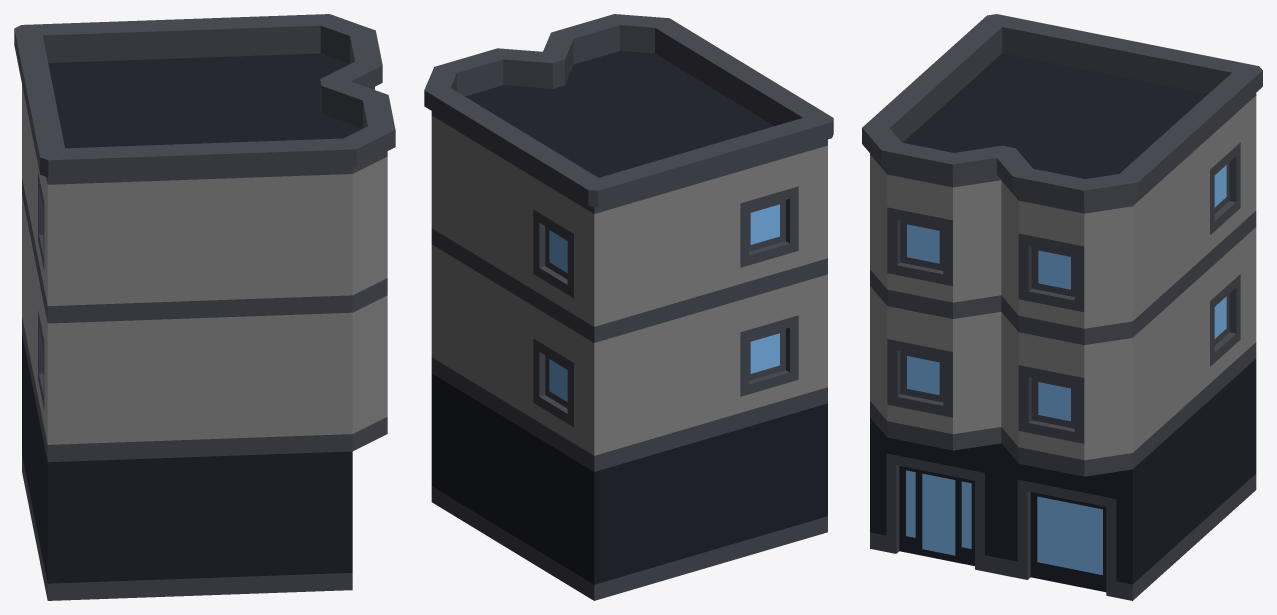
File: variant_34.obj
The picture shows the model from 3 angles, left to right: view 1: azimuth 30°, elevation 25°; view 2: azimuth 150°, elevation 25°; view 3: azimuth 270°, elevation 25°; orthographic projection. The views are drawn at different scales.
Visible parts, largest first — view 1: Building; view 2: Building; view 3: Building.
Part boxes in pixels (x1,y1,x2,y2): Building: [14, 14, 395, 600]; Building: [424, 14, 833, 600]; Building: [862, 14, 1262, 600].
Size of the model in its own units: 1.15 by 1.28 by 1.1.
